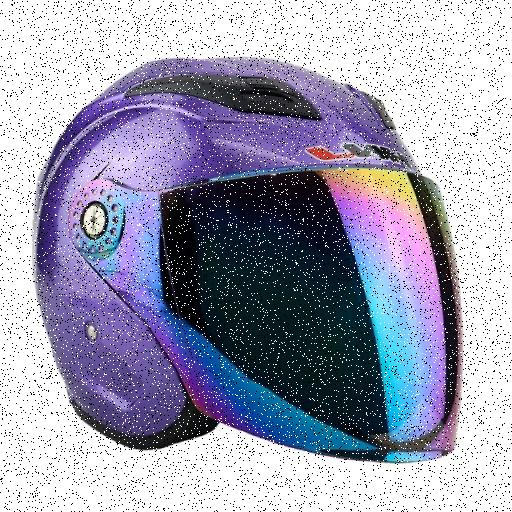Helmet: (35, 59, 460, 460)
